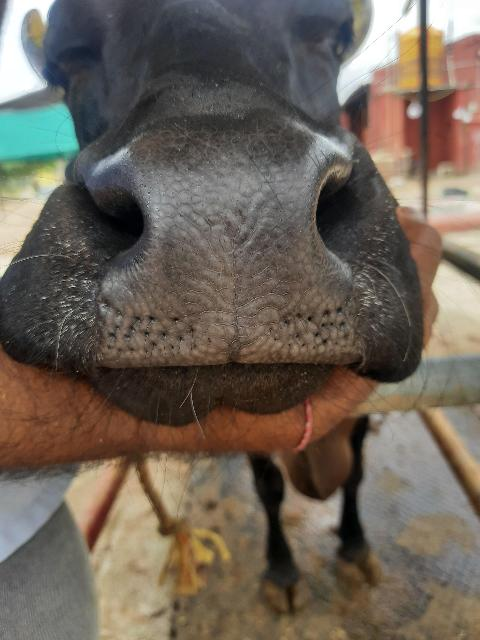Muzzle: (132, 139, 332, 367)
